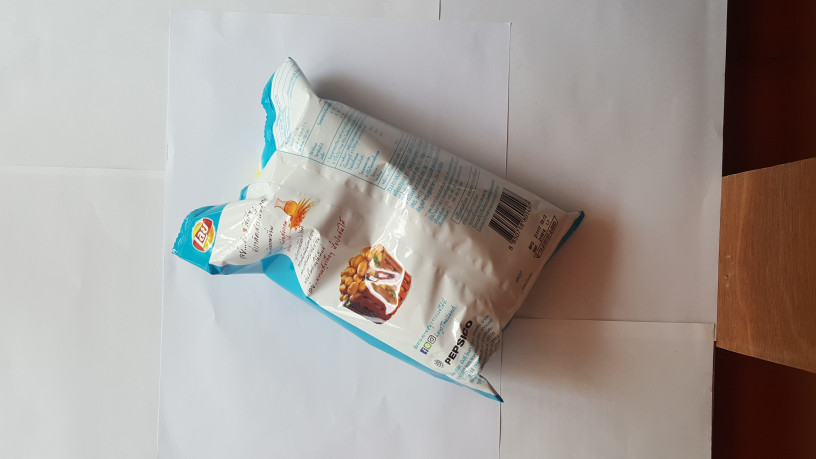lays-onion: (157, 69, 583, 411)
